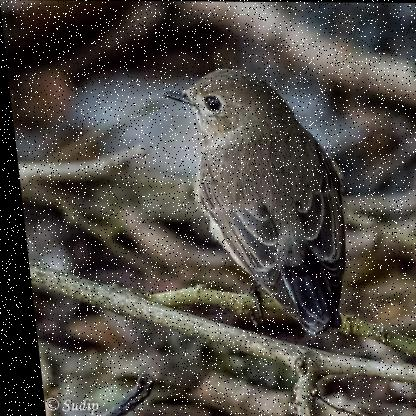Burung: (159, 66, 353, 333)
